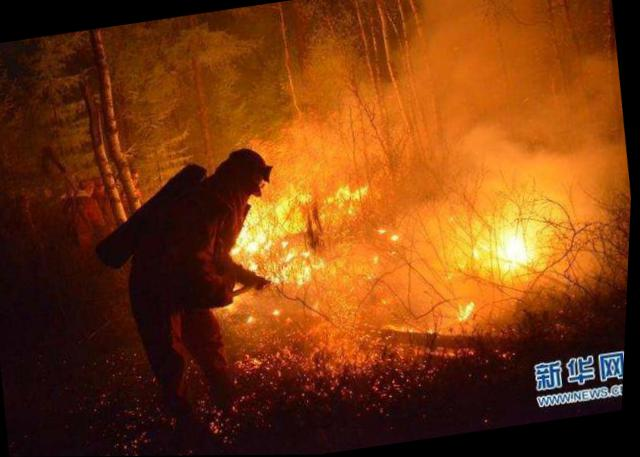fire: (229, 177, 377, 301), (482, 214, 551, 284), (448, 294, 483, 325)
